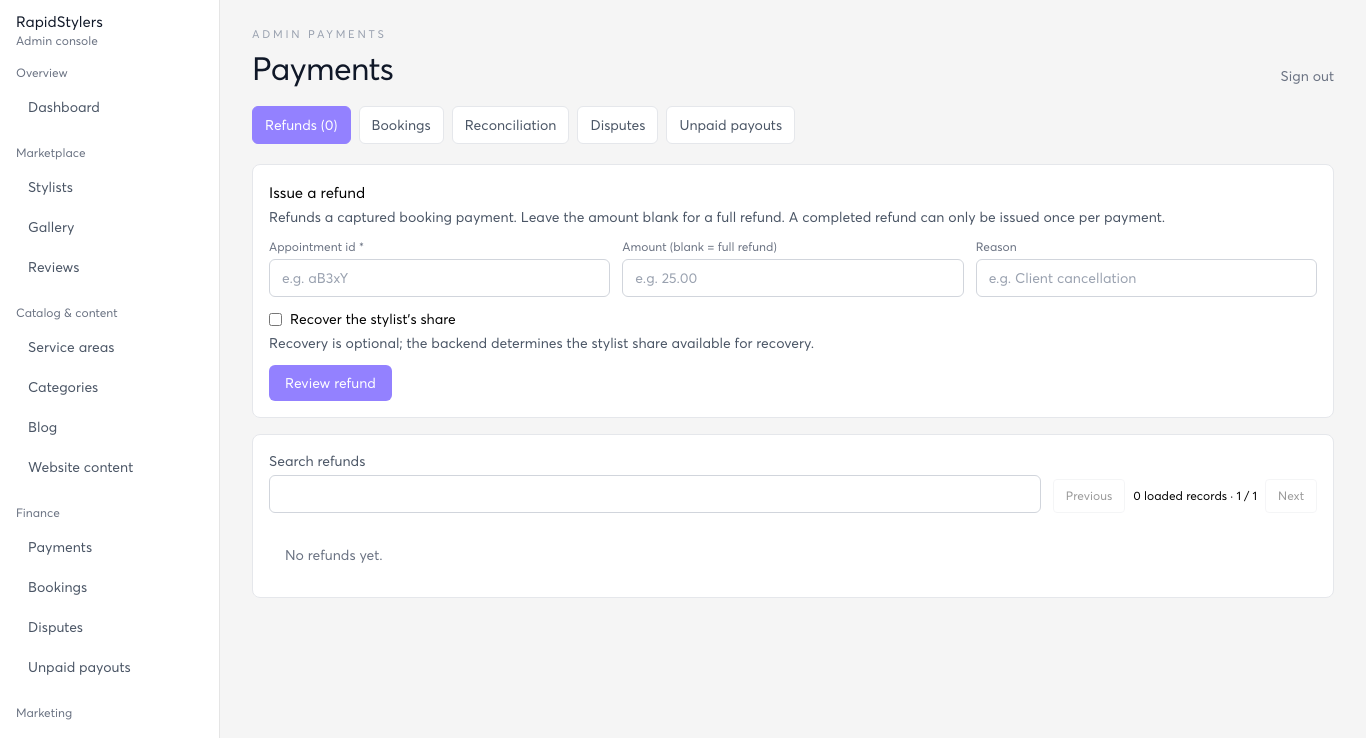
Test: requires acknowledgement before resolve and preserves notes on a failed request
This screenshot has width=1366, height=738.
Expected: the text "No refunds yet." is shown, [285,546,382,563]
Click the button "Disputes" at coordinates (618, 125), box [577,106,658,144]
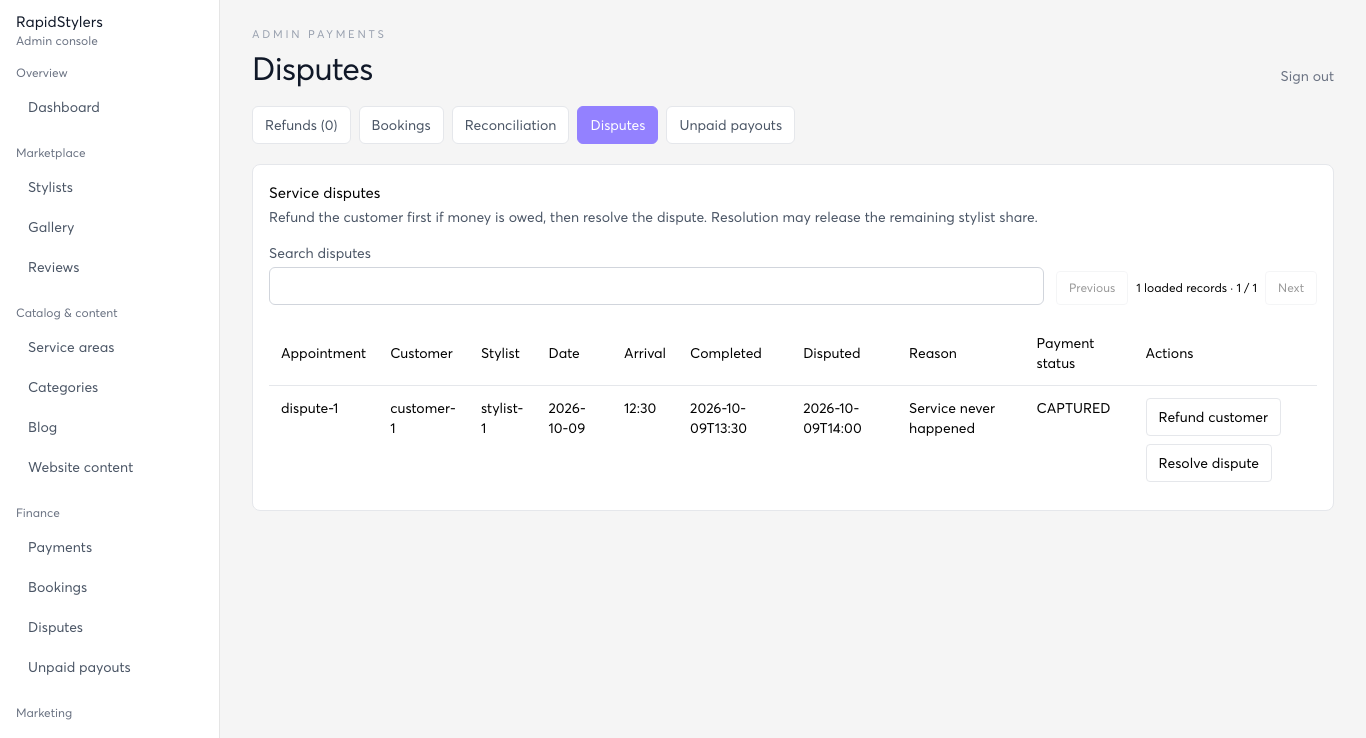
Expected: the text "Service never happened" is shown, [897,386,1025,494]
Click the button "Resolve dispute" at coordinates (1209, 463), box [1146,444,1272,482]
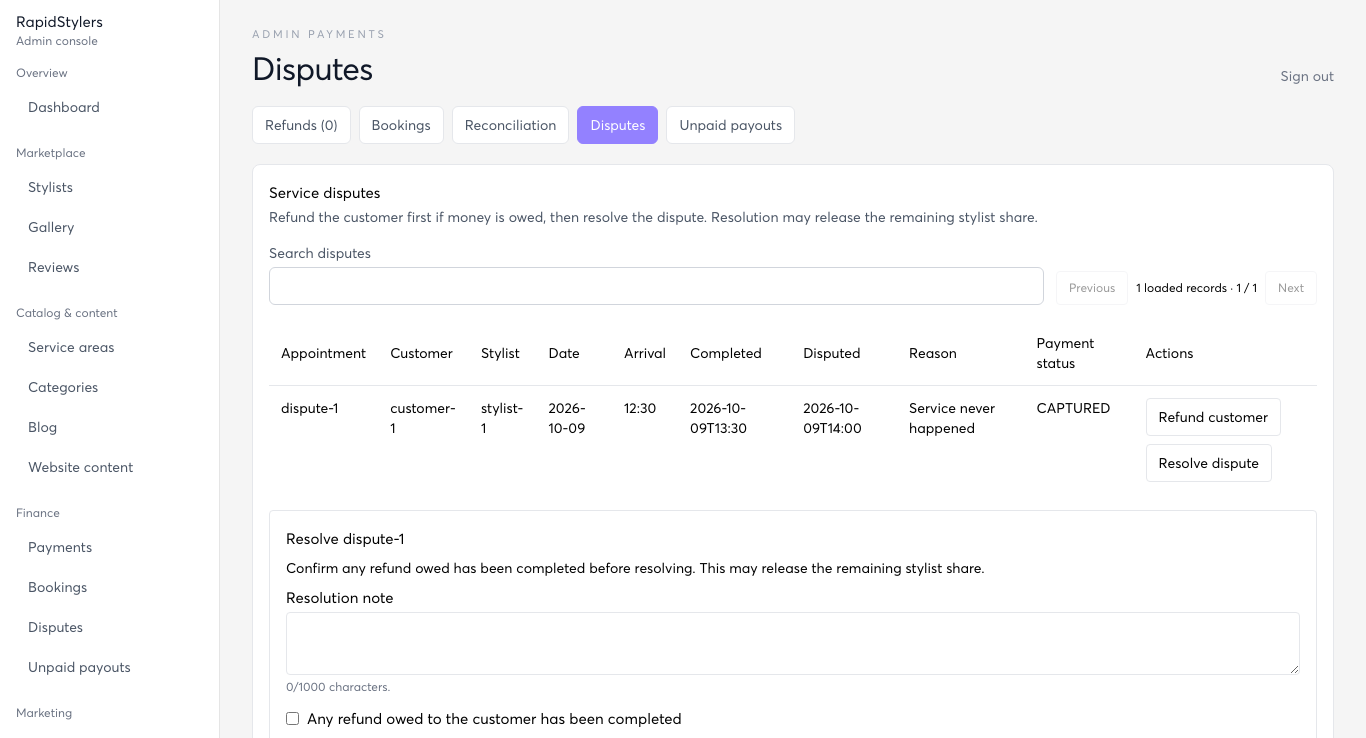
Type "Customer refunded" into the text box labelled "Resolution note" at coordinates (793, 644), box [286,612,1300,675]
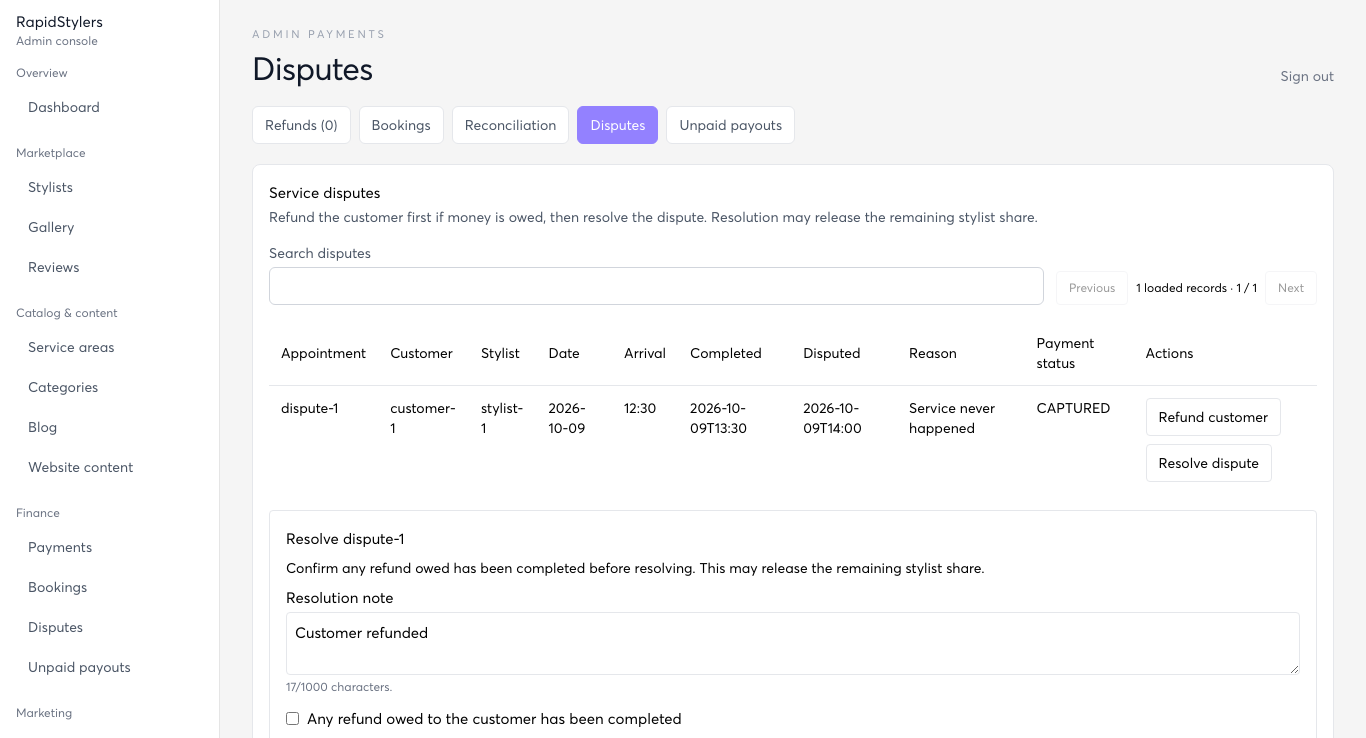
Click the checkbox labelled "Any refund owed to the customer has been completed" at coordinates (292, 718), box [286,712,299,725]
(page scrolled)
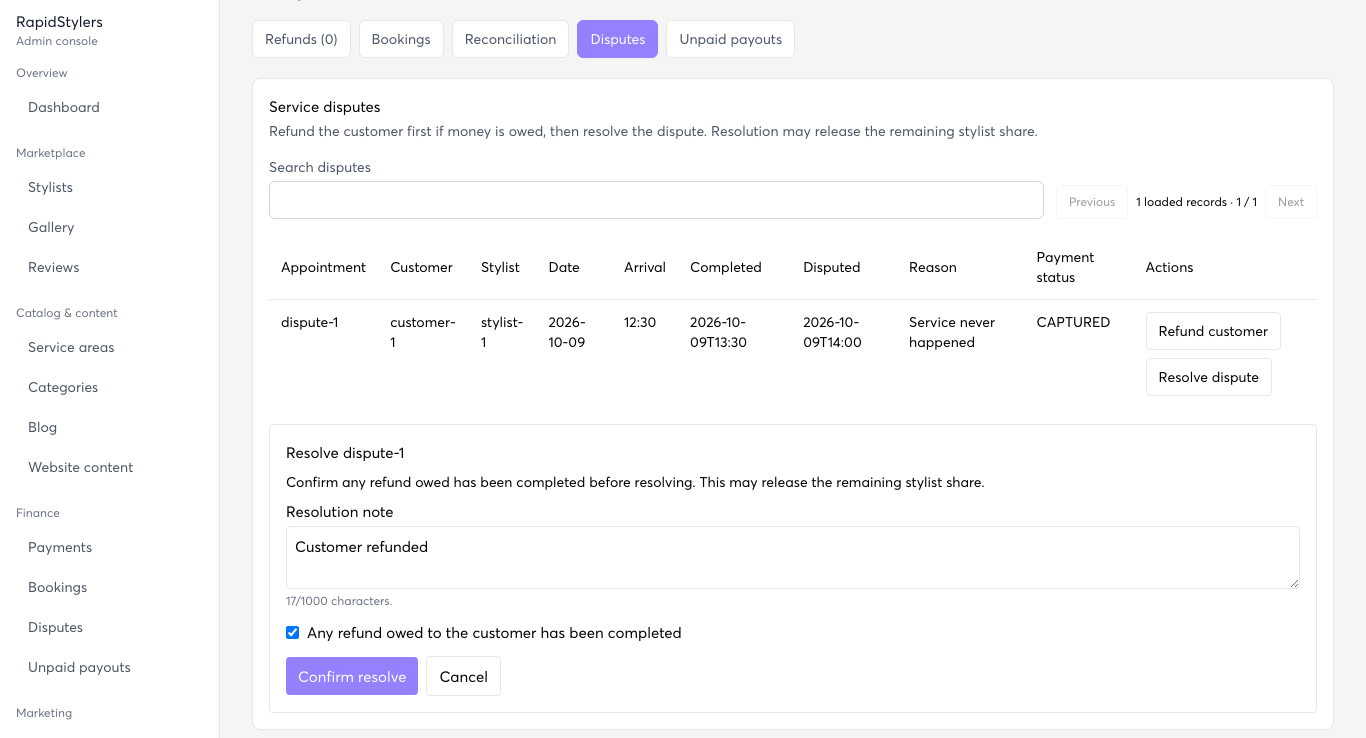
Click the button "Confirm resolve" at coordinates (352, 676), box [286,657,418,695]
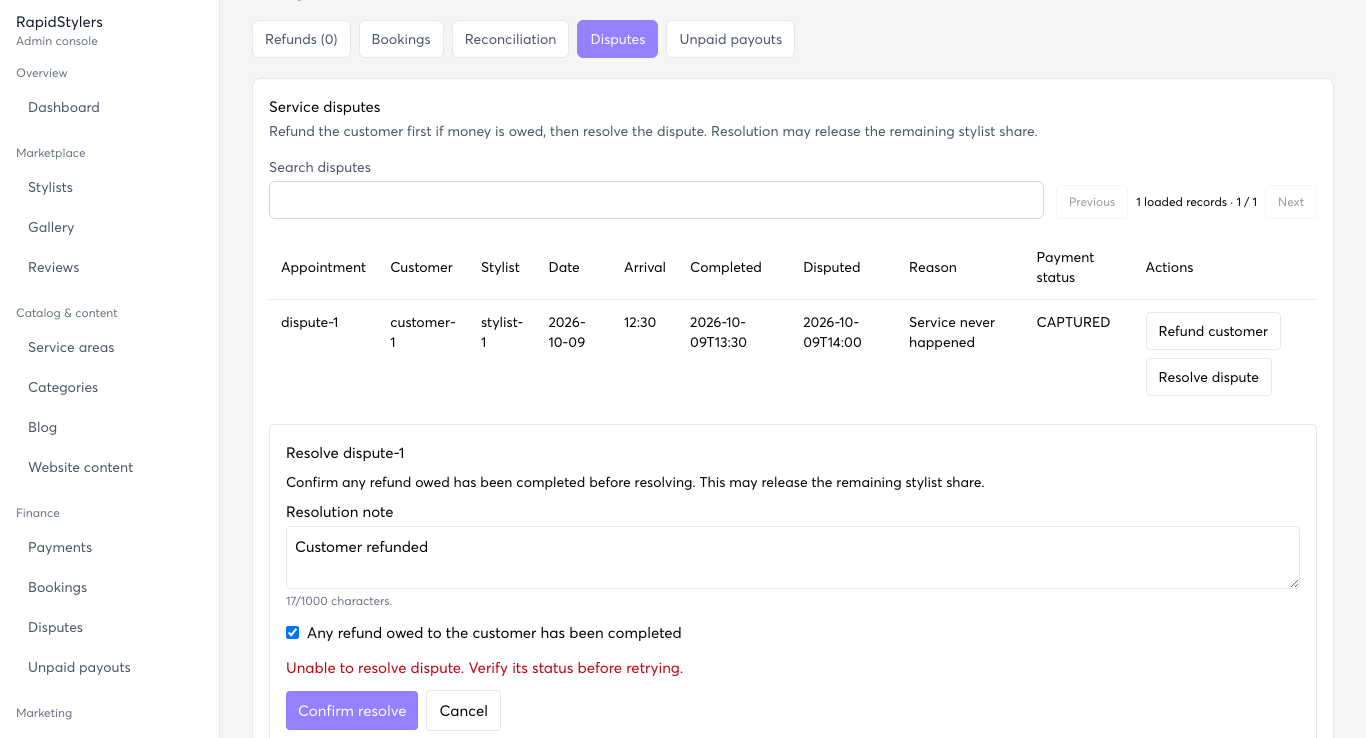
Expected: the message shows "Unable to resolve", [286,658,683,676]
